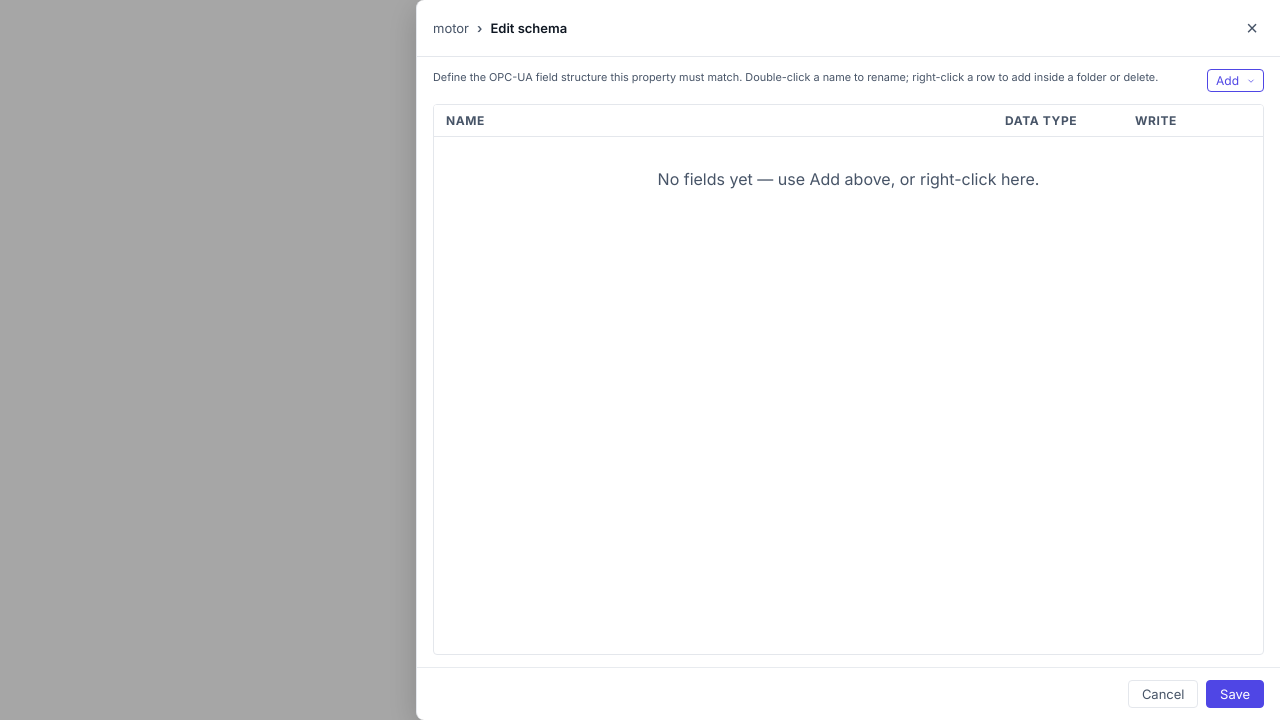
Test: StructSchemaModal › assigns unique sibling names to same-kind additions at the same level
Step 1. Right-click the element with class "struct-schema-table" → [848, 380], box [433,104,1264,655]
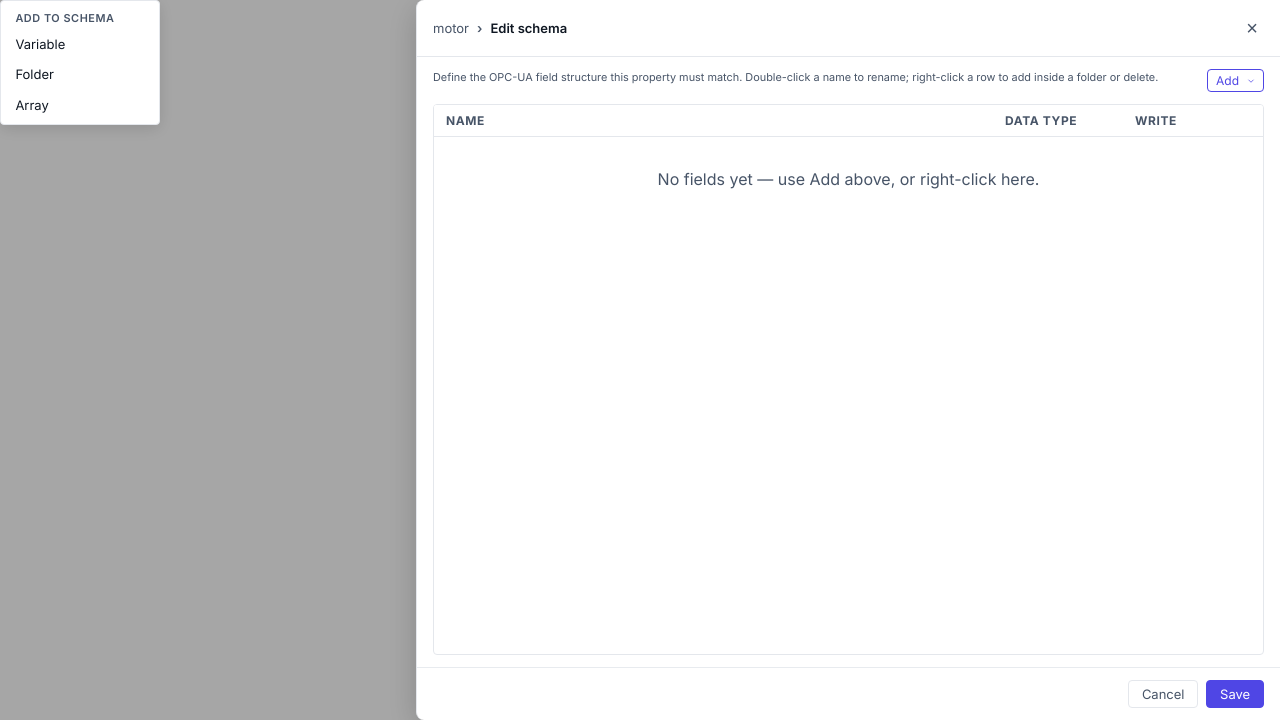
Step 2. Click the button "Variable" → [80, 44], box [1,29,159,59]
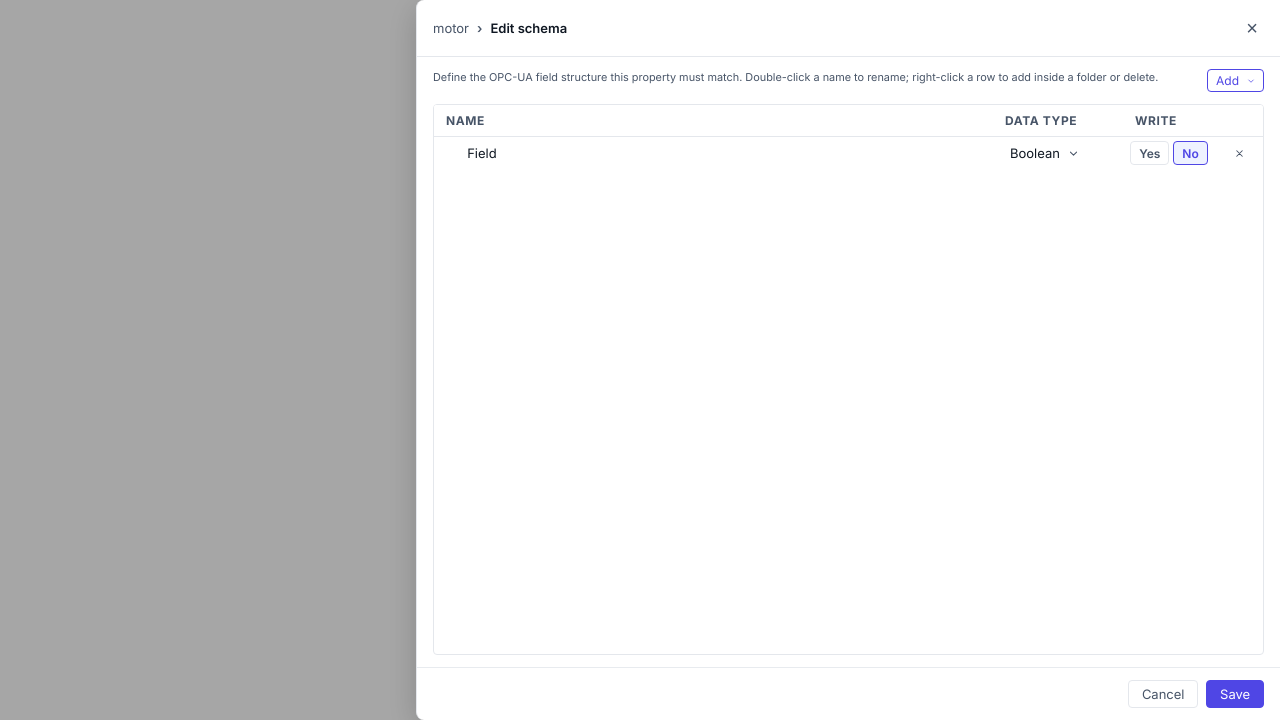
Step 3. Right-click the element with class "struct-schema-table" → [848, 380], box [433,104,1264,655]
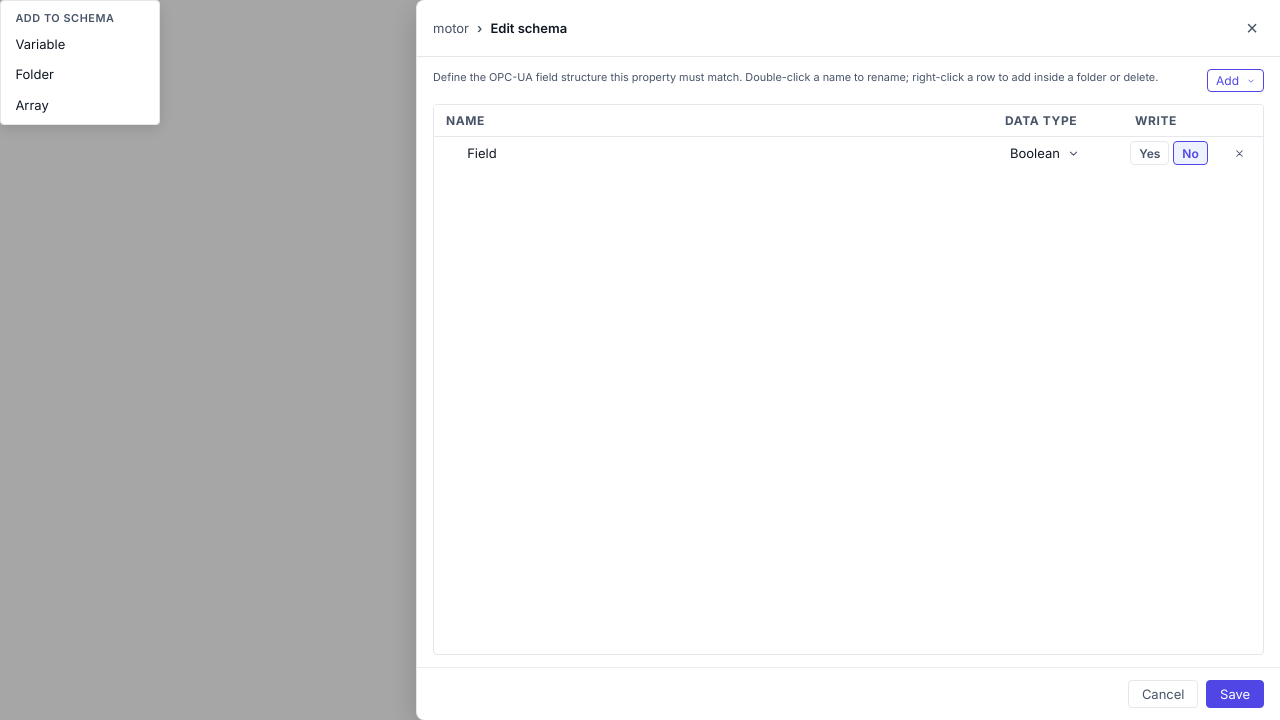
Step 4. Click the button "Variable" → [80, 44], box [1,29,159,59]
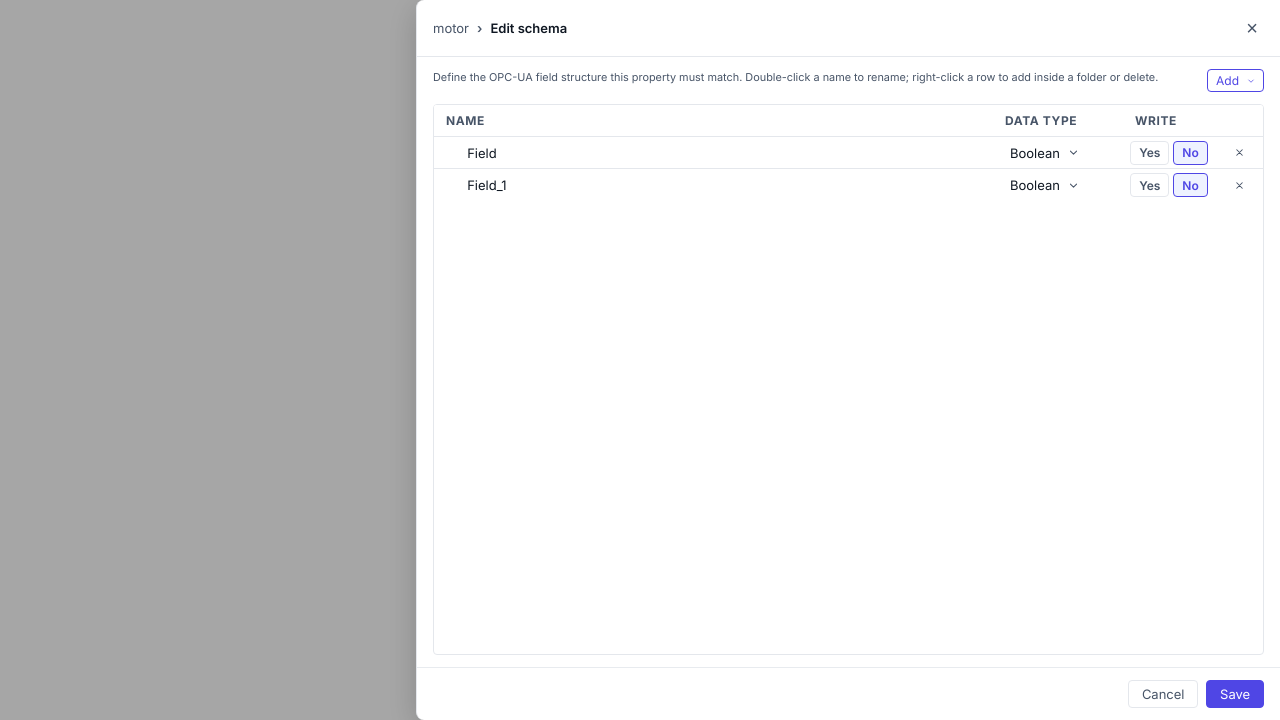
Expected: the text "Field" is shown, [467,144,497,160]
Expected: the text "Field_1" is shown, [467,177,506,193]
